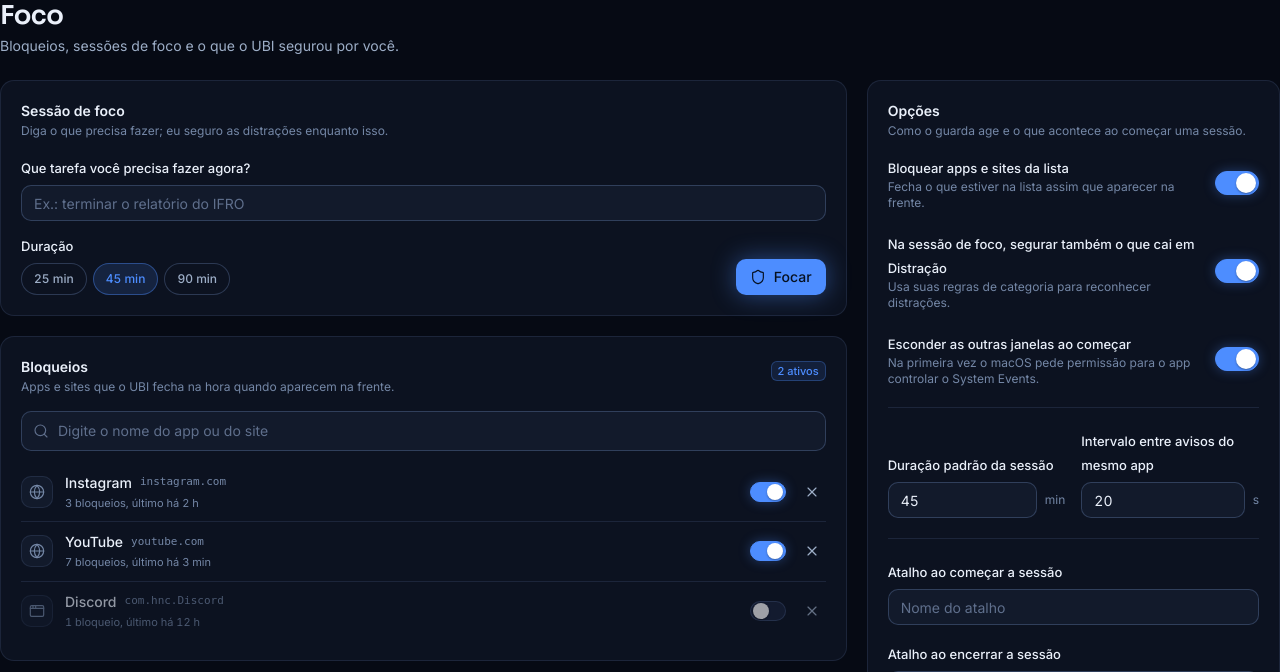
Test case: Focus page (mock backend) › "Manter o bloqueio" keeps the target on
Expected: the list with test id "focus-targets" is shown, [21, 462, 826, 640]
Click the switch named "Bloquear YouTube": (768, 551) [750, 541, 786, 561]
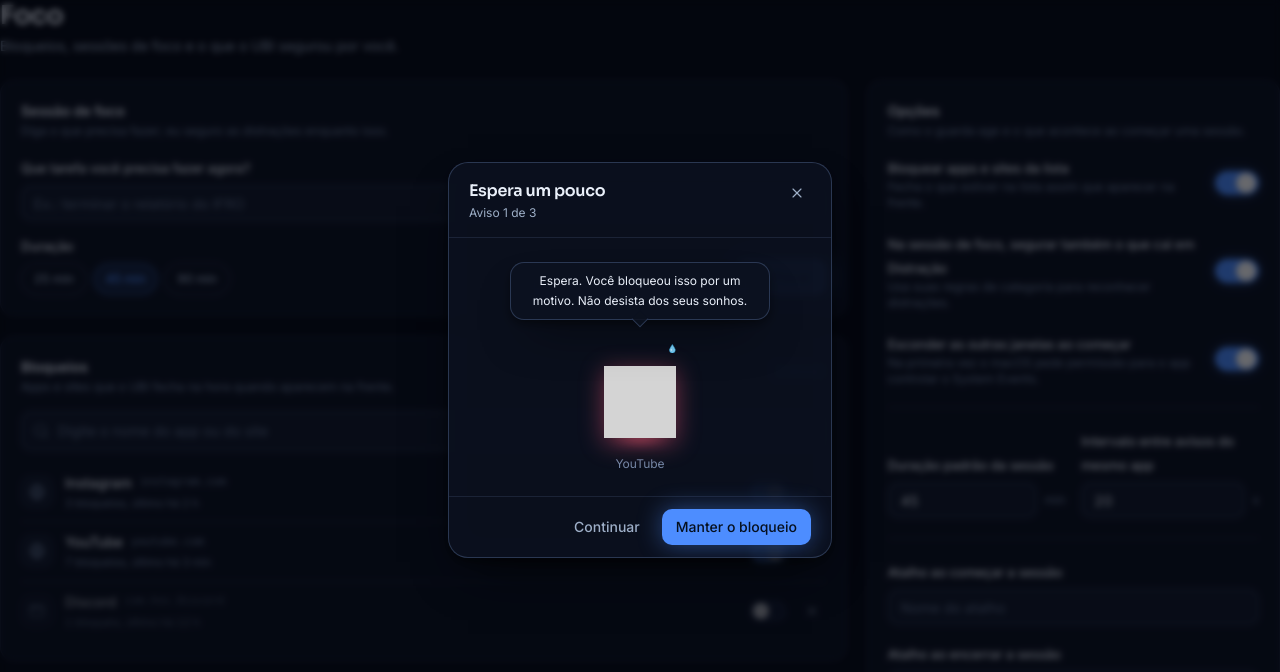
Click the button "Manter o bloqueio": (736, 527) [662, 509, 811, 545]
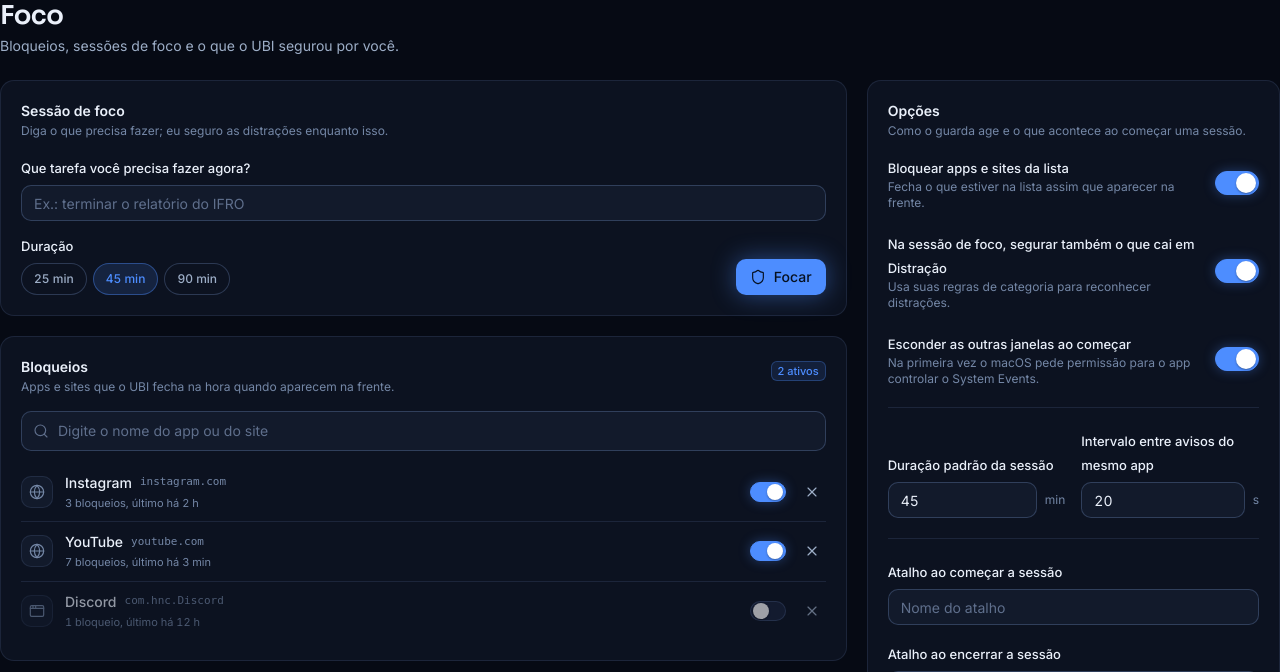
Now the dialog is gone
